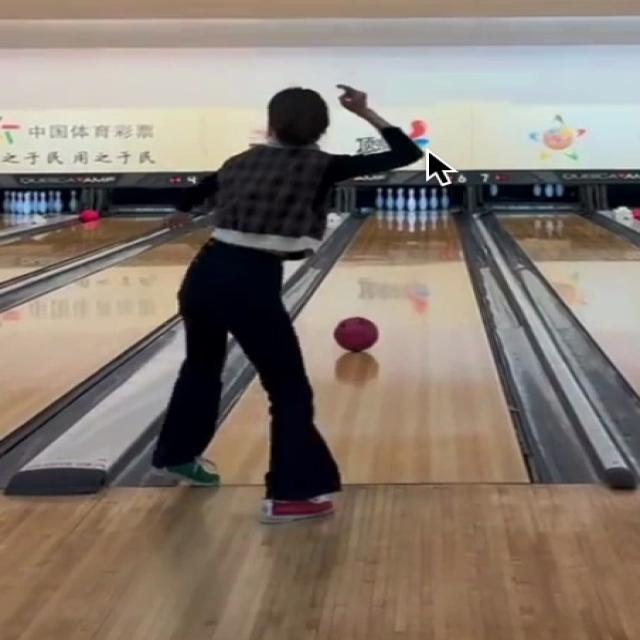alley: (290, 210, 531, 485), (208, 380, 270, 486)
balls: (333, 317, 379, 354)
bottle: (375, 185, 452, 213)
